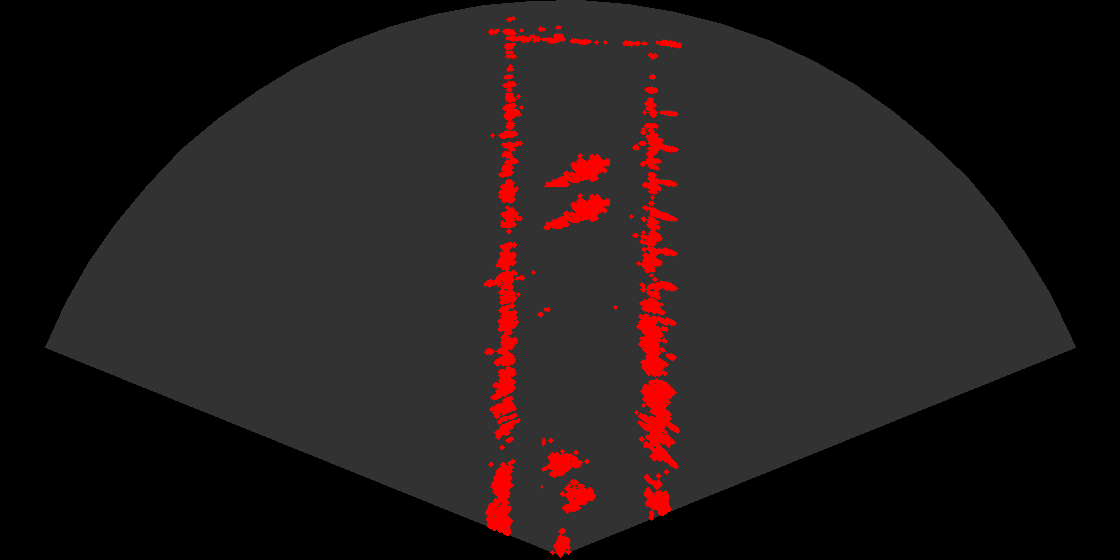cage: (541, 438, 604, 522)
frogman: (542, 147, 610, 194), (542, 187, 610, 234)
